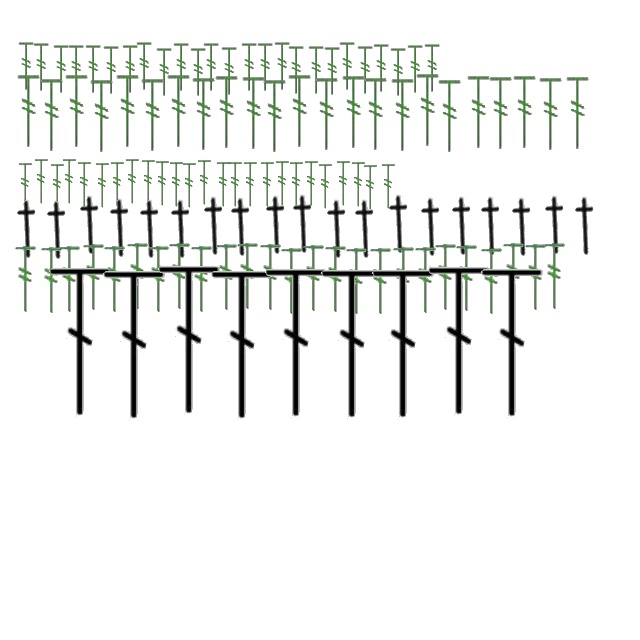double treble: (156, 260, 224, 420), (370, 264, 438, 424), (426, 262, 494, 420), (48, 262, 114, 422), (320, 264, 386, 424), (102, 266, 168, 424), (210, 266, 276, 424), (264, 264, 330, 422), (480, 264, 546, 422)
enseble_chain: (10, 199, 46, 259), (40, 200, 76, 260), (164, 199, 200, 259), (224, 197, 260, 257), (286, 194, 322, 254), (320, 199, 356, 259), (348, 199, 384, 259), (382, 194, 418, 254), (414, 197, 450, 257), (474, 196, 510, 256), (538, 195, 574, 255), (568, 196, 604, 256), (74, 195, 108, 255), (104, 198, 138, 258), (134, 199, 168, 259), (198, 196, 232, 256), (260, 195, 294, 255), (446, 196, 480, 256), (506, 197, 540, 257)
fan: (15, 73, 43, 149), (38, 77, 66, 153), (63, 73, 91, 149), (88, 78, 116, 154), (114, 73, 142, 149), (139, 77, 167, 153), (165, 73, 193, 149), (190, 76, 218, 152), (213, 74, 241, 150), (240, 75, 268, 151), (261, 78, 289, 154), (286, 73, 314, 149), (313, 76, 341, 152), (340, 74, 368, 150), (362, 76, 390, 152), (389, 77, 417, 153), (414, 72, 442, 148), (436, 78, 464, 154), (465, 74, 493, 150), (487, 75, 515, 151), (511, 74, 539, 150), (537, 76, 565, 152), (564, 75, 592, 151), (39, 246, 63, 316), (125, 242, 149, 312), (167, 242, 191, 312), (235, 242, 259, 312), (301, 244, 325, 314), (391, 246, 415, 316), (413, 246, 437, 316), (454, 244, 478, 314), (501, 242, 525, 312), (542, 242, 566, 312), (13, 246, 37, 314), (57, 246, 81, 314), (81, 244, 105, 312), (102, 246, 126, 314), (146, 246, 170, 314), (189, 246, 213, 314), (214, 244, 238, 312), (258, 244, 282, 312), (279, 248, 303, 316), (323, 246, 347, 314), (344, 248, 368, 316), (368, 248, 392, 316), (433, 244, 457, 312), (479, 248, 503, 316), (523, 244, 547, 312), (32, 42, 52, 92), (52, 44, 72, 94), (84, 44, 104, 94), (102, 45, 122, 95), (172, 42, 192, 92), (202, 42, 222, 92), (220, 46, 240, 96), (240, 42, 260, 92), (256, 42, 276, 92), (338, 41, 358, 91), (356, 45, 376, 95), (372, 43, 392, 93), (406, 44, 426, 94), (18, 41, 36, 91), (68, 44, 86, 94), (122, 44, 140, 94), (136, 41, 154, 91), (156, 47, 174, 97), (190, 47, 208, 97), (274, 41, 292, 91), (288, 45, 306, 95), (308, 45, 326, 95), (324, 46, 342, 96), (390, 47, 408, 97), (424, 43, 442, 93), (76, 160, 94, 210), (140, 158, 158, 208), (168, 160, 186, 210), (196, 158, 214, 208), (242, 160, 260, 210), (288, 160, 306, 210), (350, 160, 368, 210), (380, 162, 398, 212), (94, 162, 112, 210), (124, 158, 142, 206), (154, 160, 172, 208), (274, 160, 292, 208), (362, 164, 380, 212), (50, 162, 66, 212), (110, 160, 126, 210), (216, 160, 232, 210), (228, 160, 244, 210), (260, 160, 276, 210), (318, 162, 334, 212), (18, 162, 34, 210), (34, 158, 50, 206), (62, 158, 78, 206), (182, 162, 198, 210), (304, 160, 320, 208), (336, 160, 352, 208)
